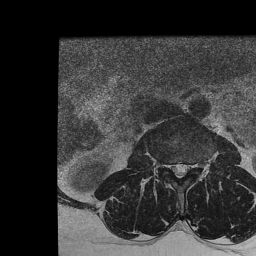CCS_stenosis: (176, 155, 183, 188)
LFS_stenosis: (190, 155, 198, 175)
LLS_normal: (183, 155, 190, 179)
RFS_stenosis: (161, 153, 169, 176)
RLS_normal: (169, 155, 176, 180)
